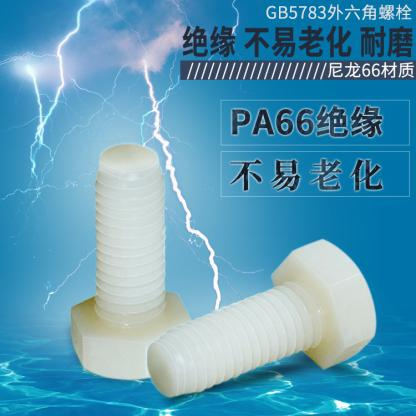FOD: (143, 235, 379, 402), (67, 141, 193, 386)
